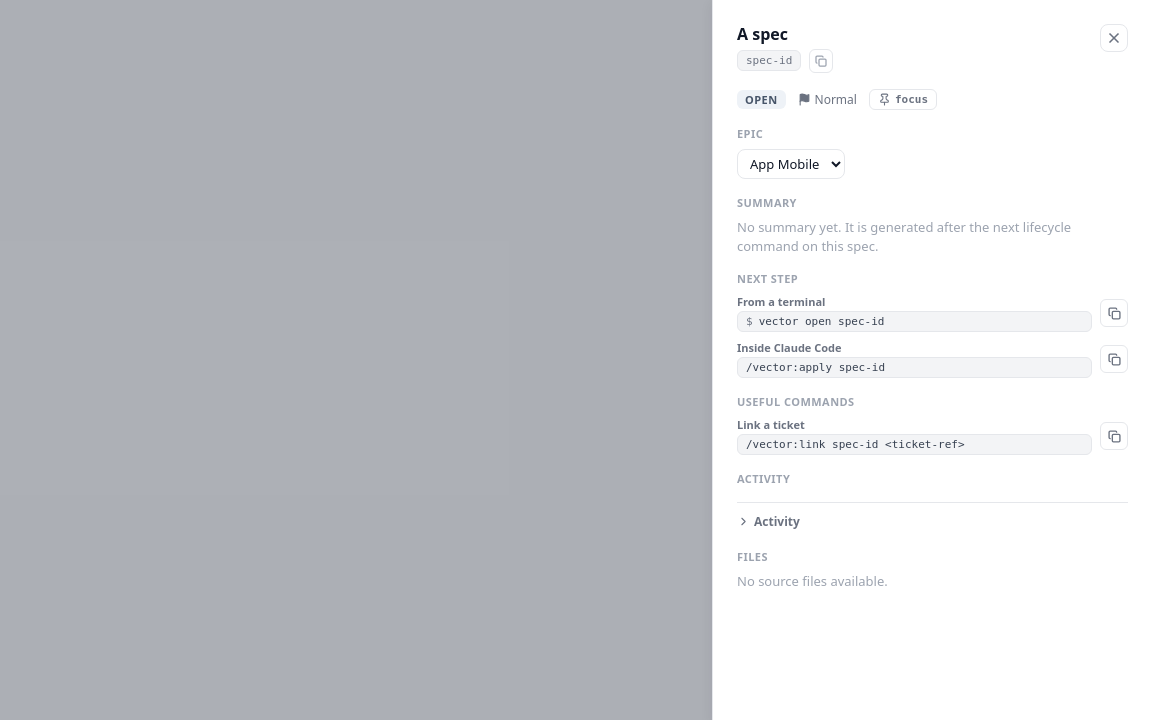
SpecDetailsDrawer focus and epic controls › clears the epic with null and shows a failure inline
Select "no epic" in the dropdown named "Epic": (791, 164) [737,149,845,179]
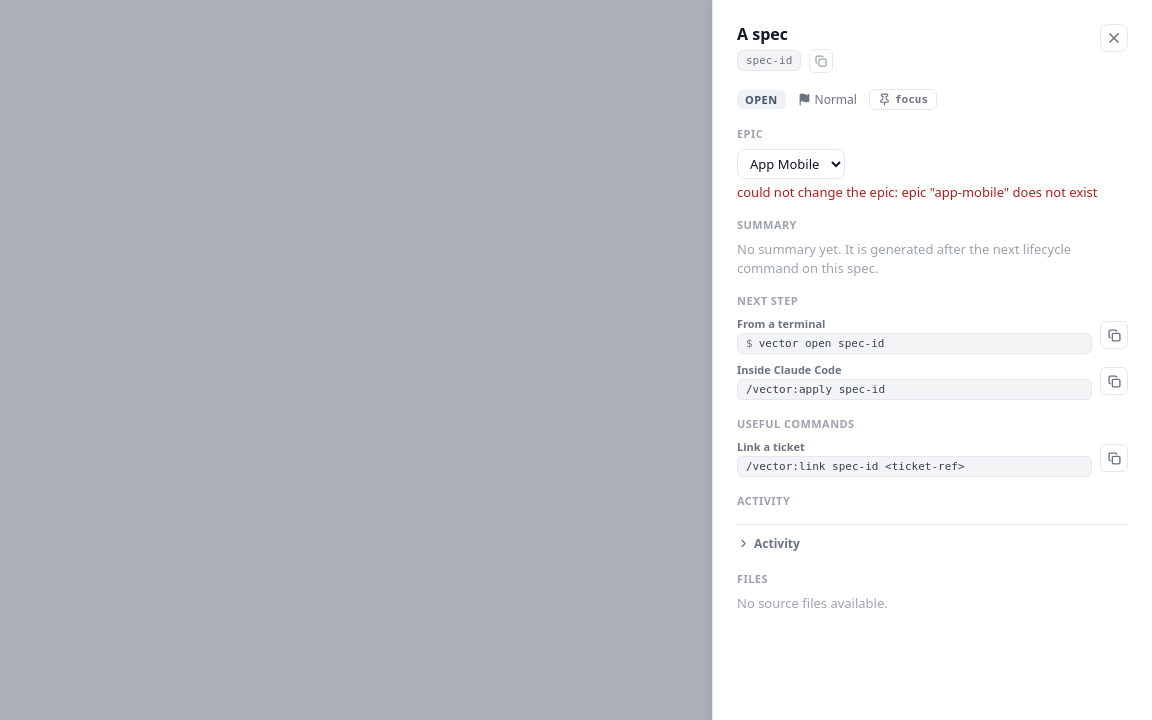
Expected: the message shows "does not exist", [901,183,1098,201]
